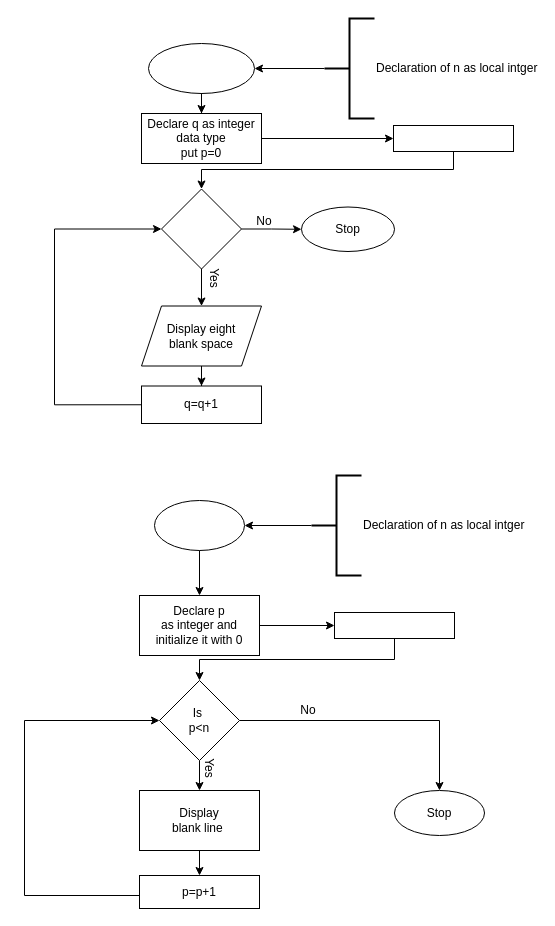
Some shapes in this 555 by 926 pixel diagram are drawn without their labels. Each missing label, with the centre of its shape:
"initialize p=0" belongs at [394,625].
"initialize q=0" belongs at [453,138].
"Is q<n" belongs at [201,228].
"space(int n)" belongs at [201,68].
"vertmid(int n)" belongs at [199,525].
